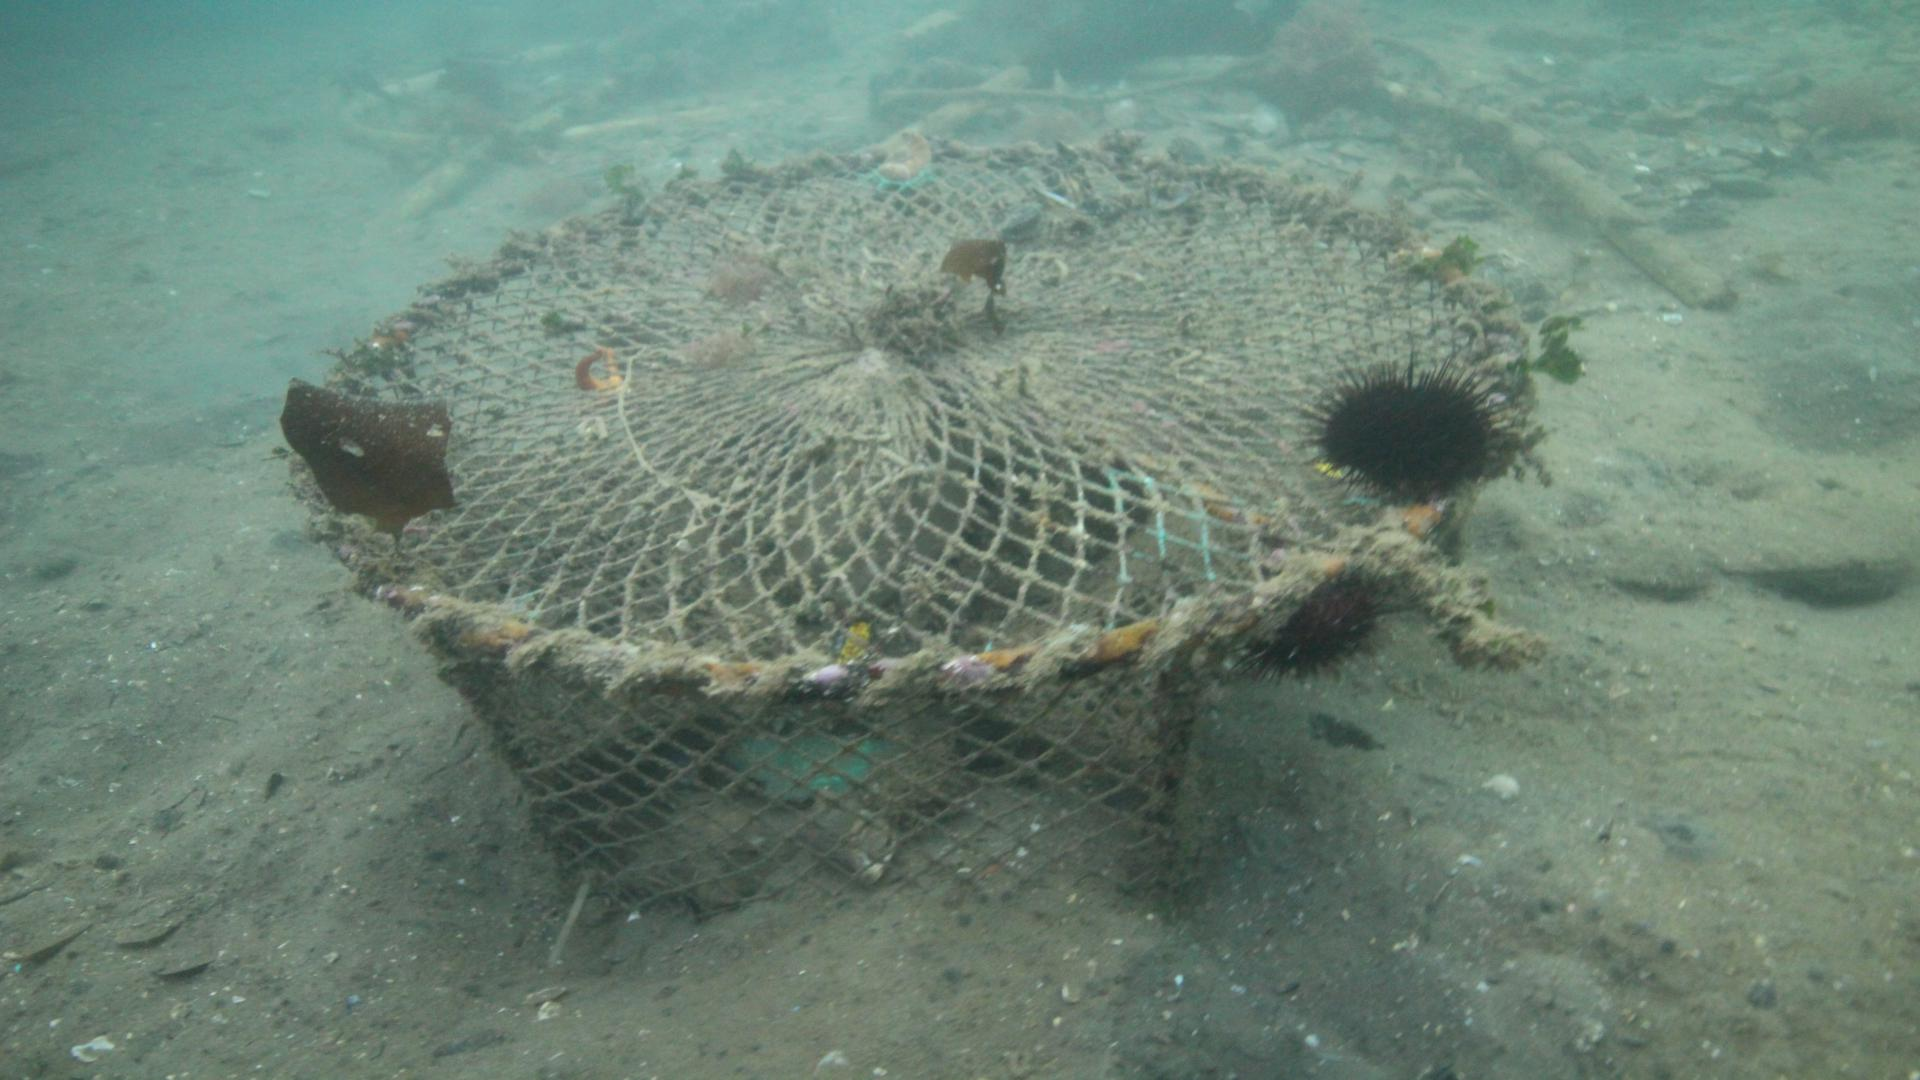circular fish trap: (290, 146, 1528, 934)
